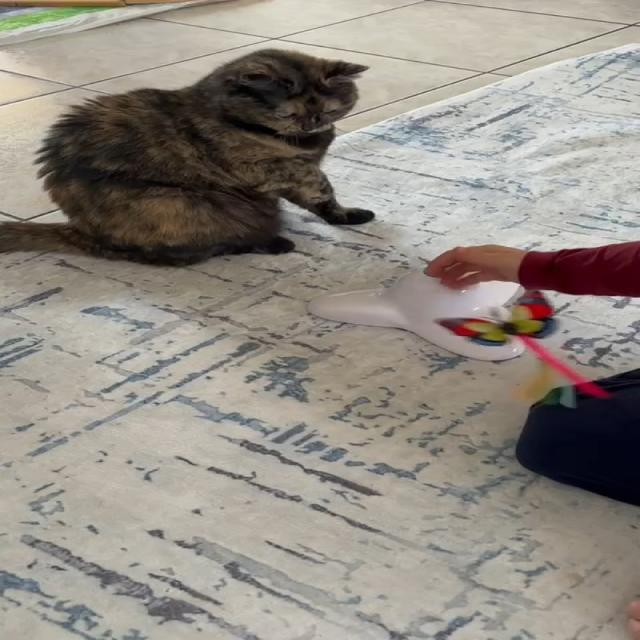authorized: (0, 48, 376, 267)
